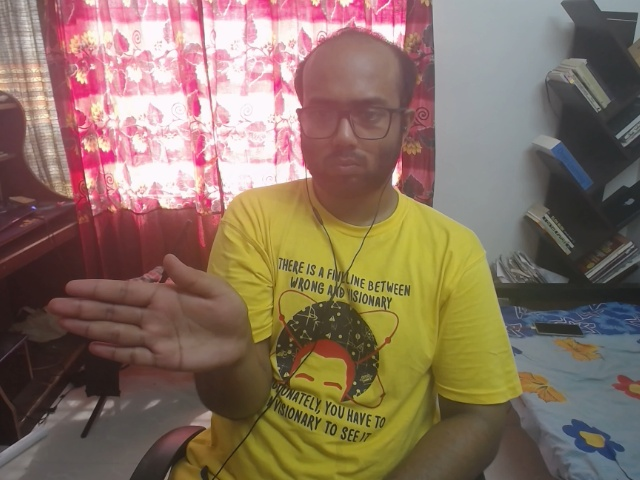south: (41, 245, 282, 402)
